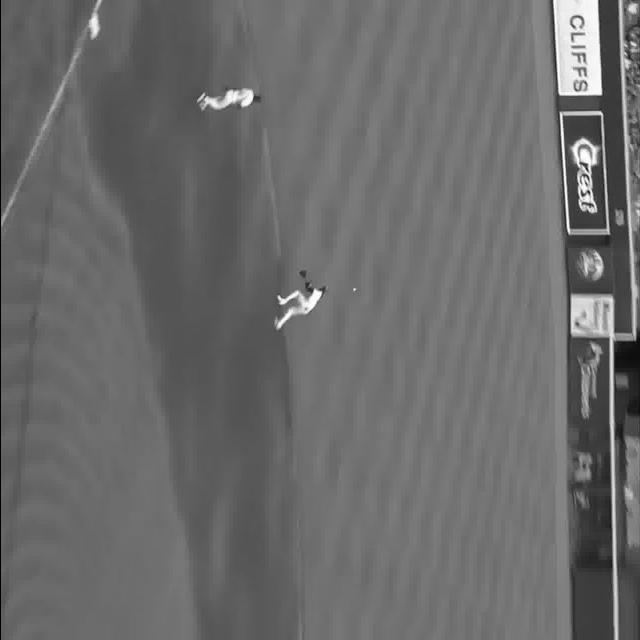base: (82, 12, 102, 42)
baseball: (351, 286, 357, 292)
baseball_glove: (298, 266, 310, 279)
shoe: (272, 314, 282, 333), (274, 292, 284, 308)
